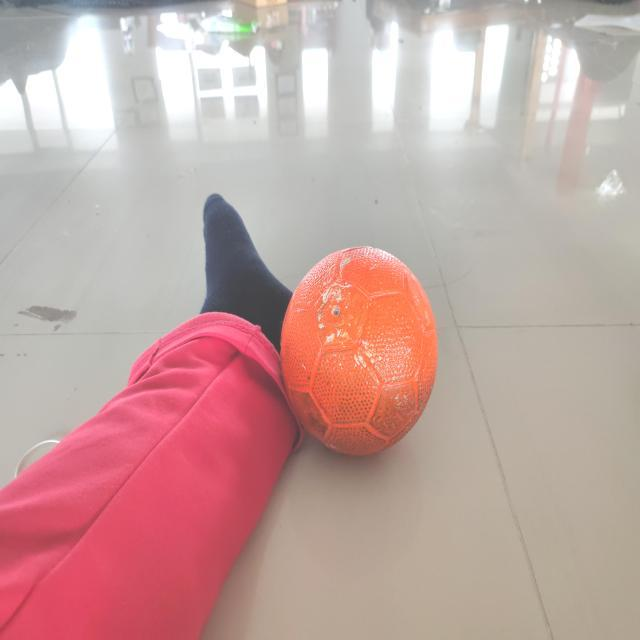bola: (264, 230, 447, 469)
